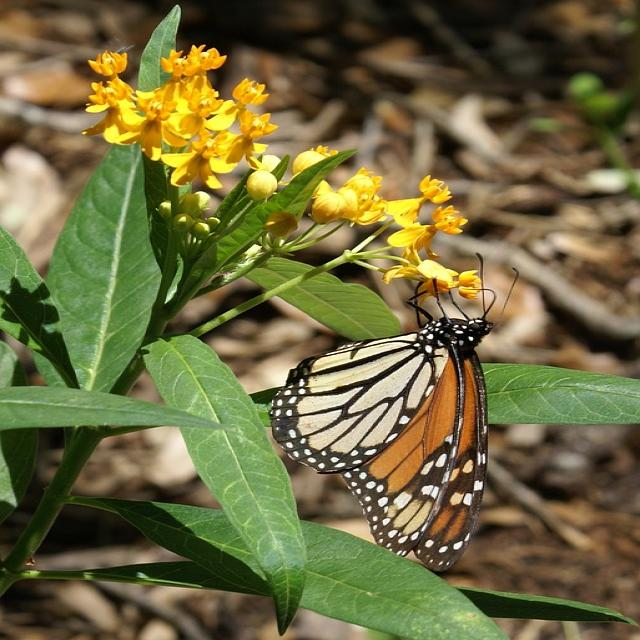butterfly: (272, 319, 492, 575)
